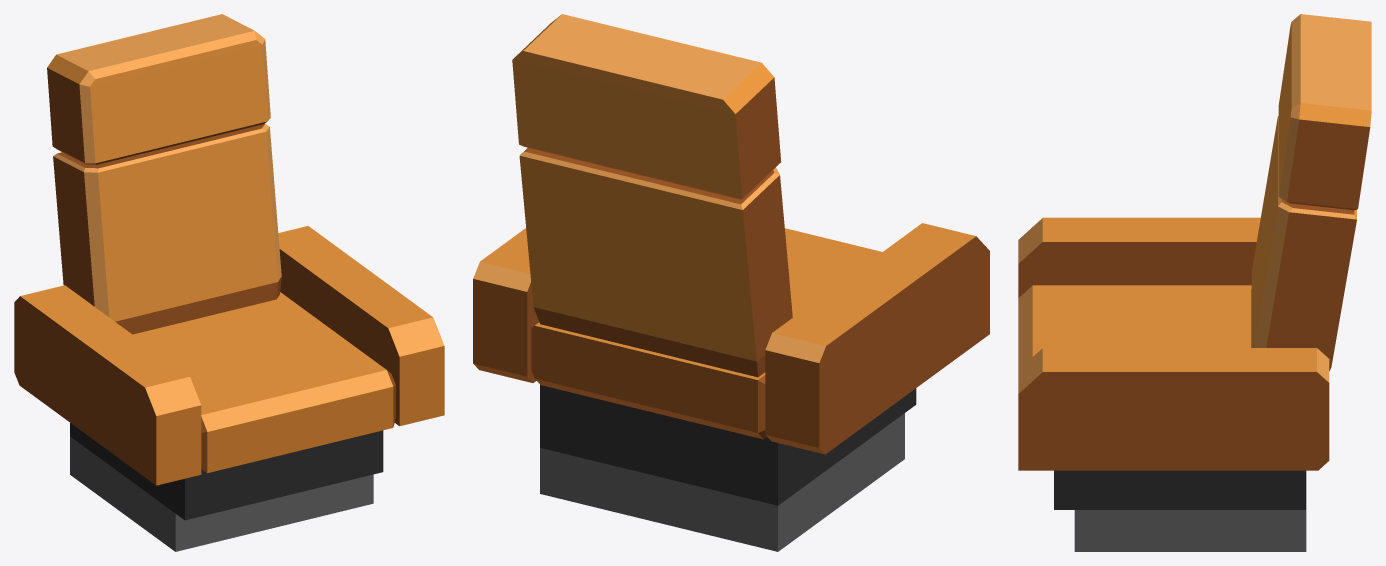
File: CR_Chair_Medium.fbx
3 views of the same model, side by side, from view 1: azimuth 30°, elevation 25°; view 2: azimuth 150°, elevation 25°; view 3: azimuth 270°, elevation 25° (orthographic). The views are drawn at different scales.
Parts seen in each view (by area): view 1: CR_Chair_Medium; view 2: CR_Chair_Medium; view 3: CR_Chair_Medium.
Boxes of the visible parts, bbox=[...] form: CR_Chair_Medium: bbox=[14, 14, 444, 551]; CR_Chair_Medium: bbox=[473, 14, 989, 551]; CR_Chair_Medium: bbox=[1018, 14, 1371, 551].
Bounding box in the file's own units: 0.9671 × 1.29 × 0.9367.
